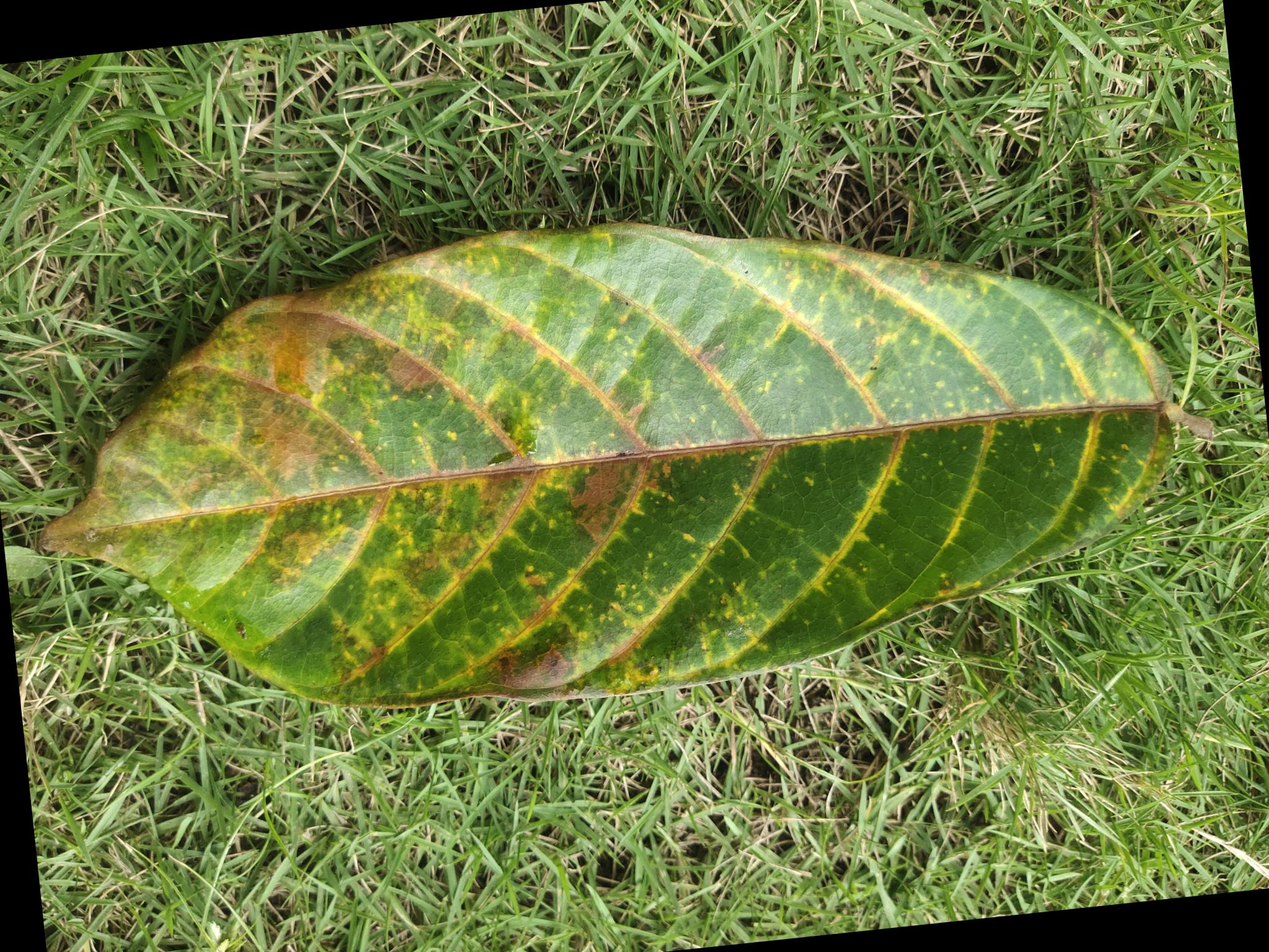Fosforo: (33, 211, 1209, 733)
